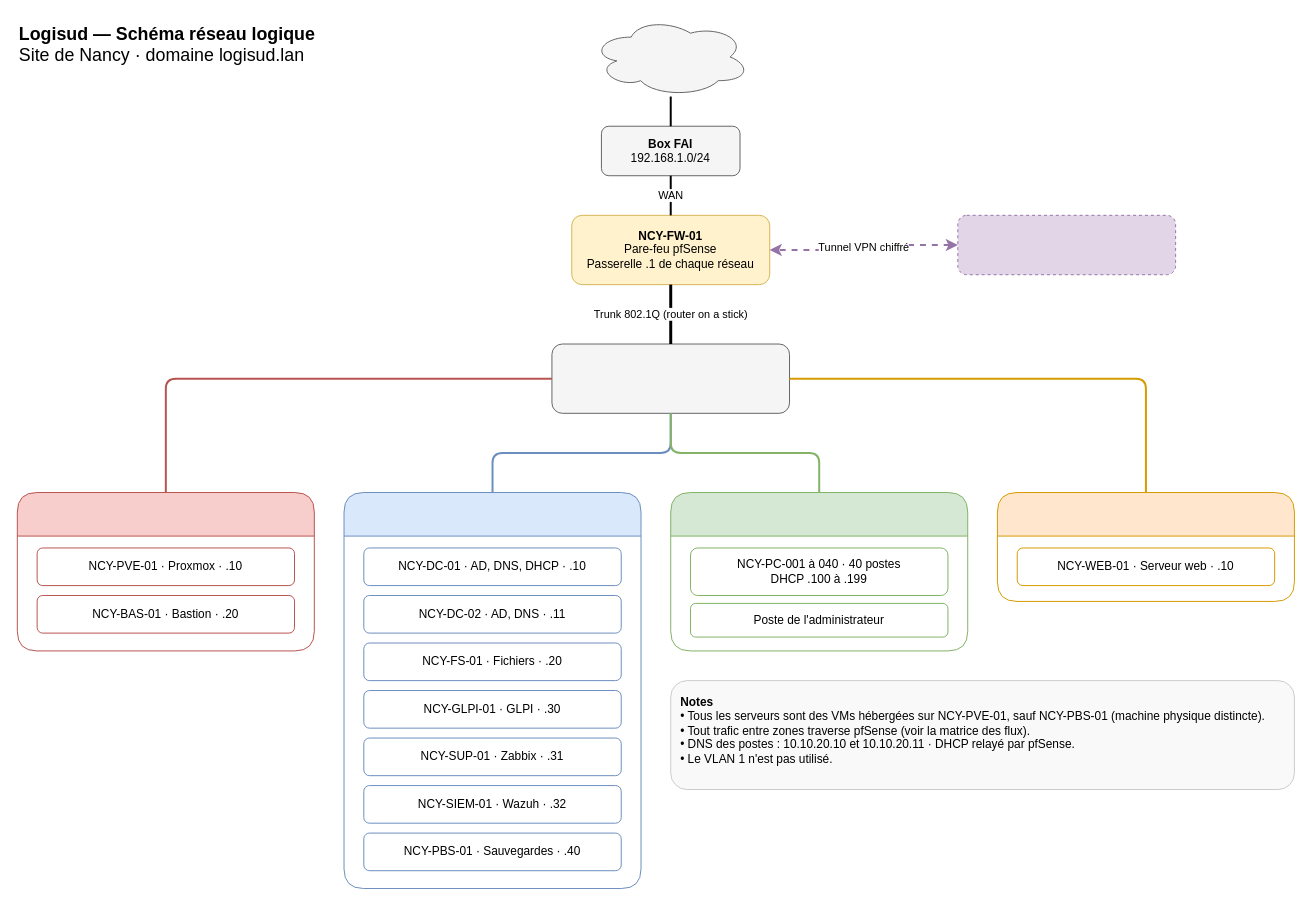
The diagram is 1312 pixels wide and 906 high, and some of its shapes have lost their labels. The box of each missing label's shape, as (x1, y1, x2, y2) in pixels:
Commerciaux nomades VPN · 10.10.100.0/24: (957, 214, 1176, 275)
Internet: (591, 16, 750, 97)
NCY-SW-01 Switch Cisco 2960 · 10.10.10.2 VLAN 999 PARKING : ports inutilisés: (551, 343, 790, 413)
VLAN 10 · ADMIN 10.10.10.0/24: (16, 492, 314, 651)
VLAN 20 · SERVEURS 10.10.20.0/24: (343, 492, 641, 889)
VLAN 30 · UTILISATEURS 10.10.30.0/24: (670, 492, 968, 651)
VLAN 40 · DMZ 10.10.40.0/24: (996, 492, 1294, 601)
